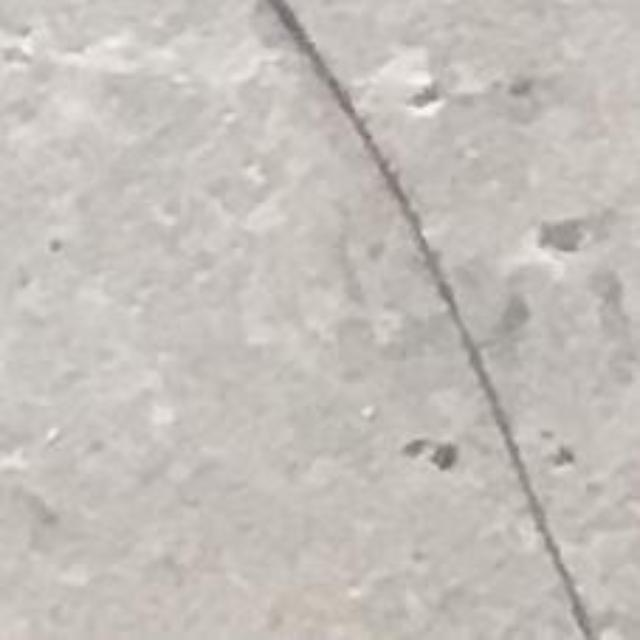crack: (266, 0, 597, 639)
